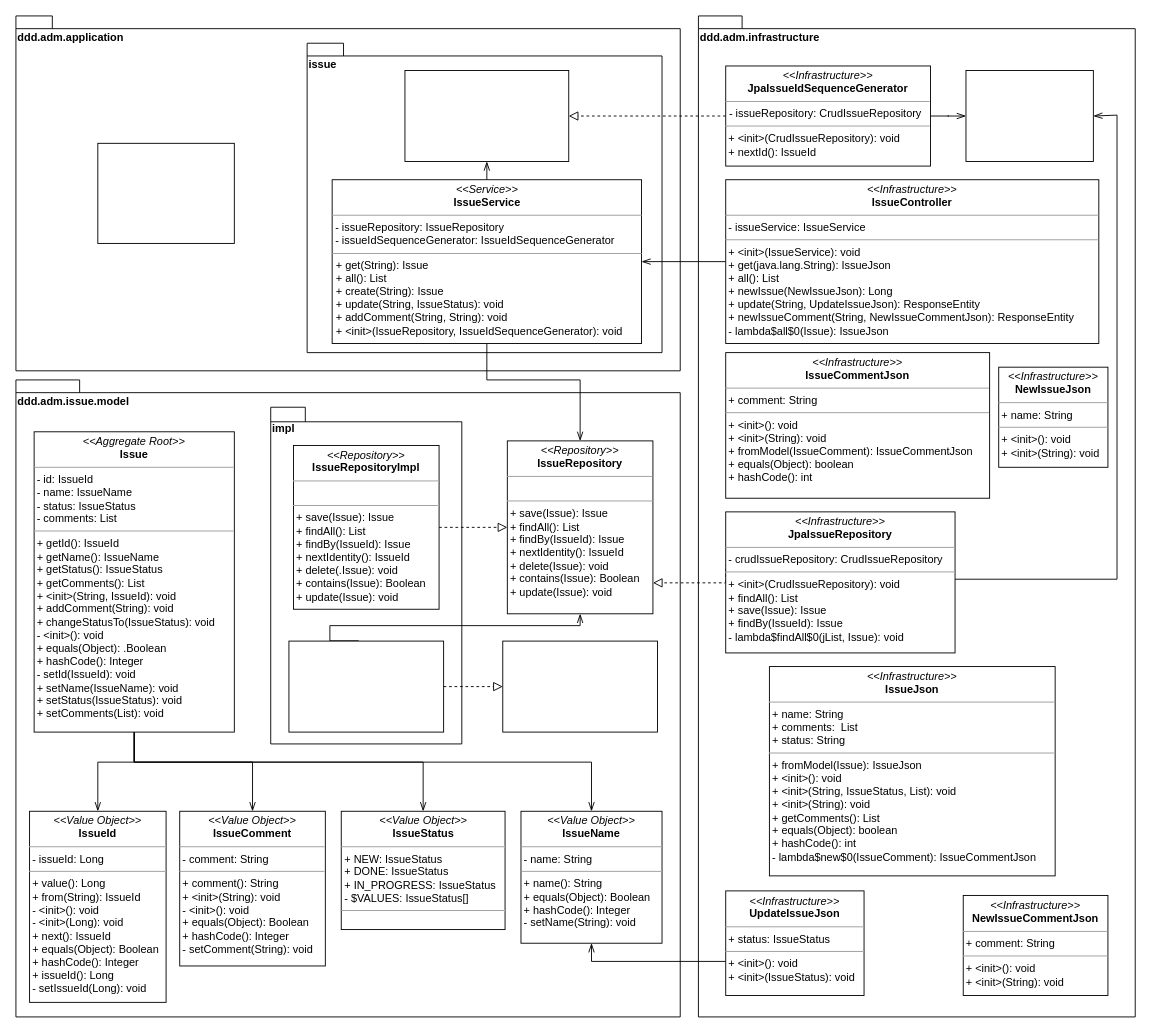
Image size: 1151x1033. Some labels were removed from this diagram. Each missing label, with the centre of its shape:
"<<Application Service>> Application + <init>(): void + main(String[]): void" goes at [165,192].
"<<Factory>> IssueFactory + create(...): Issue" goes at [579,686].
"<<Factory>> IssueFactoryImpl - repository: IssueRepository + create(...): Issue" goes at [366,686].
"<<Infrastructure>> CrudIssueRepository + findTopById(): IssueId" goes at [1029,116].
"<<Service>> IssueIdSequenceGenerator + nextId(): IssueId" goes at [486,116].
